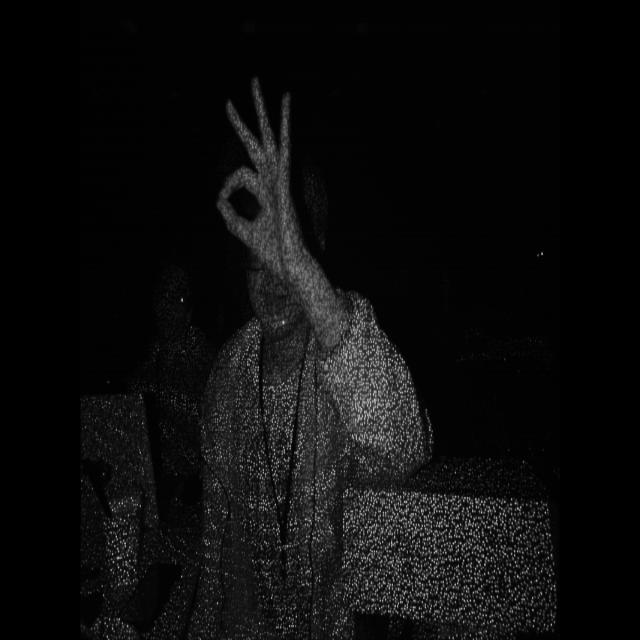F: (212, 68, 316, 309)
